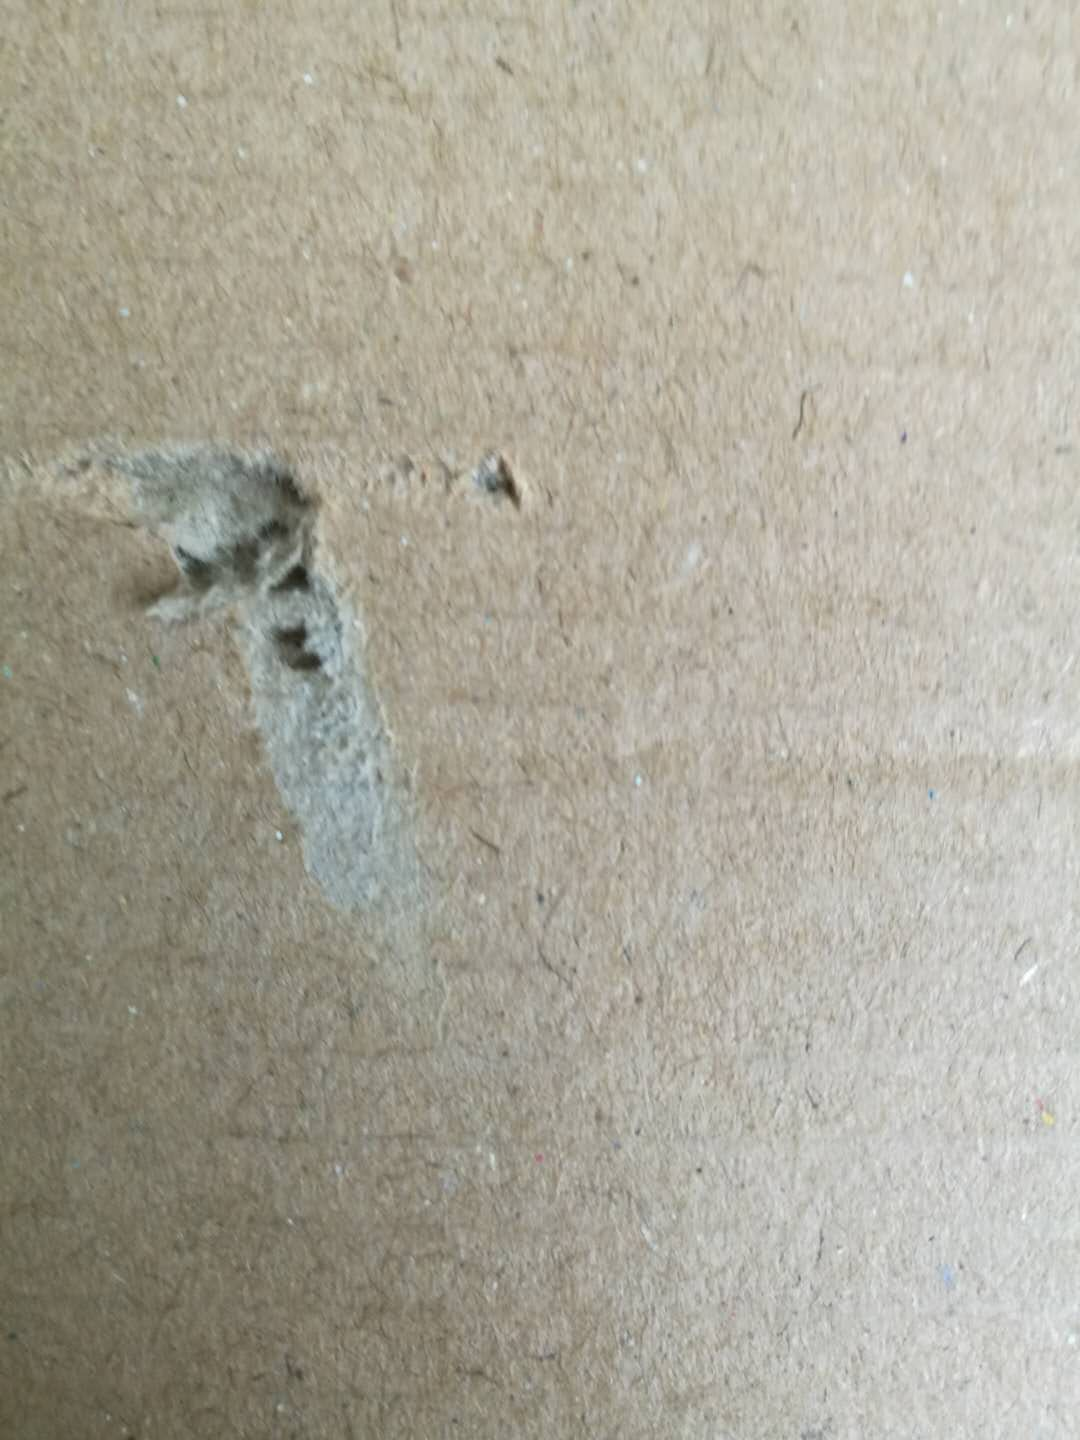defect: (12, 375, 574, 1022)
